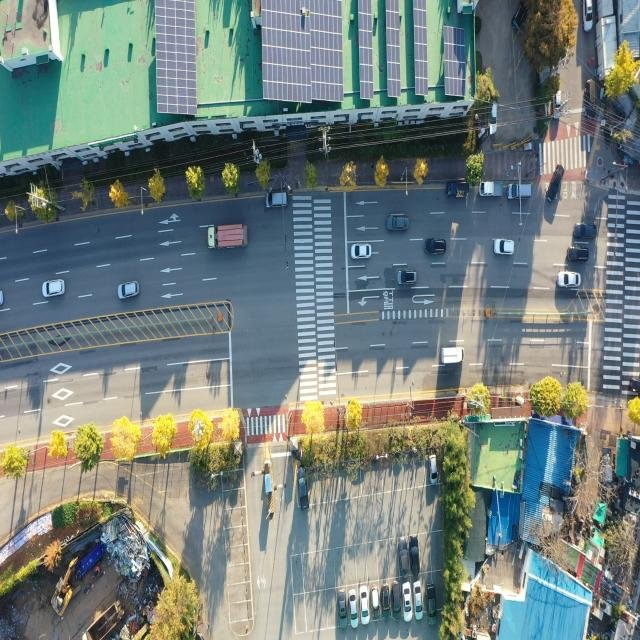car: (547, 162, 566, 204), (511, 0, 530, 34), (296, 468, 310, 508), (585, 78, 598, 120), (509, 182, 534, 200), (572, 221, 596, 239), (386, 214, 409, 232), (42, 280, 64, 298), (266, 190, 288, 208), (567, 246, 589, 264), (412, 534, 422, 573), (359, 586, 369, 624), (414, 582, 424, 620), (117, 282, 138, 300), (558, 271, 580, 288), (424, 239, 446, 256), (339, 592, 349, 628), (490, 242, 510, 260), (488, 104, 499, 136), (403, 581, 412, 620), (428, 584, 437, 623), (399, 536, 408, 574), (494, 239, 514, 256), (351, 244, 372, 260), (396, 270, 417, 286), (349, 590, 358, 627), (584, 0, 594, 32), (392, 584, 401, 618), (382, 584, 391, 614), (430, 454, 439, 484), (555, 94, 564, 120), (371, 583, 379, 609), (630, 378, 640, 394)
medium_truck: (207, 224, 247, 250)
small_truck: (440, 346, 465, 366), (601, 447, 613, 485), (480, 180, 504, 198), (447, 181, 470, 199)
